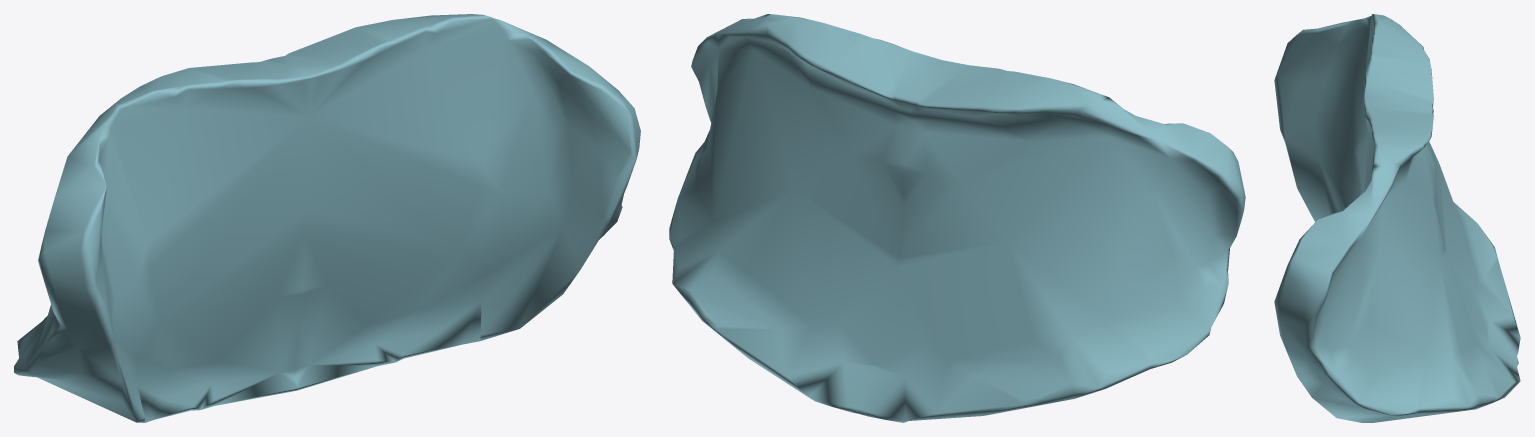
3 renders of one model, left to right at view 1: azimuth 30°, elevation 25°; view 2: azimuth 150°, elevation 25°; view 3: azimuth 270°, elevation 25°, orthographic. The views are drawn at different scales.
Visible parts, largest first — view 1: 颈4—颈5椎间盘; view 2: 颈4—颈5椎间盘; view 3: 颈4—颈5椎间盘.
Boxes of the visible parts, x1,y1,x2,y2 form: 颈4—颈5椎间盘: (14, 14, 640, 422); 颈4—颈5椎间盘: (669, 14, 1245, 422); 颈4—颈5椎间盘: (1274, 14, 1520, 422).
Size of the model in its own units: 0.0403 by 0.022 by 0.0171.
